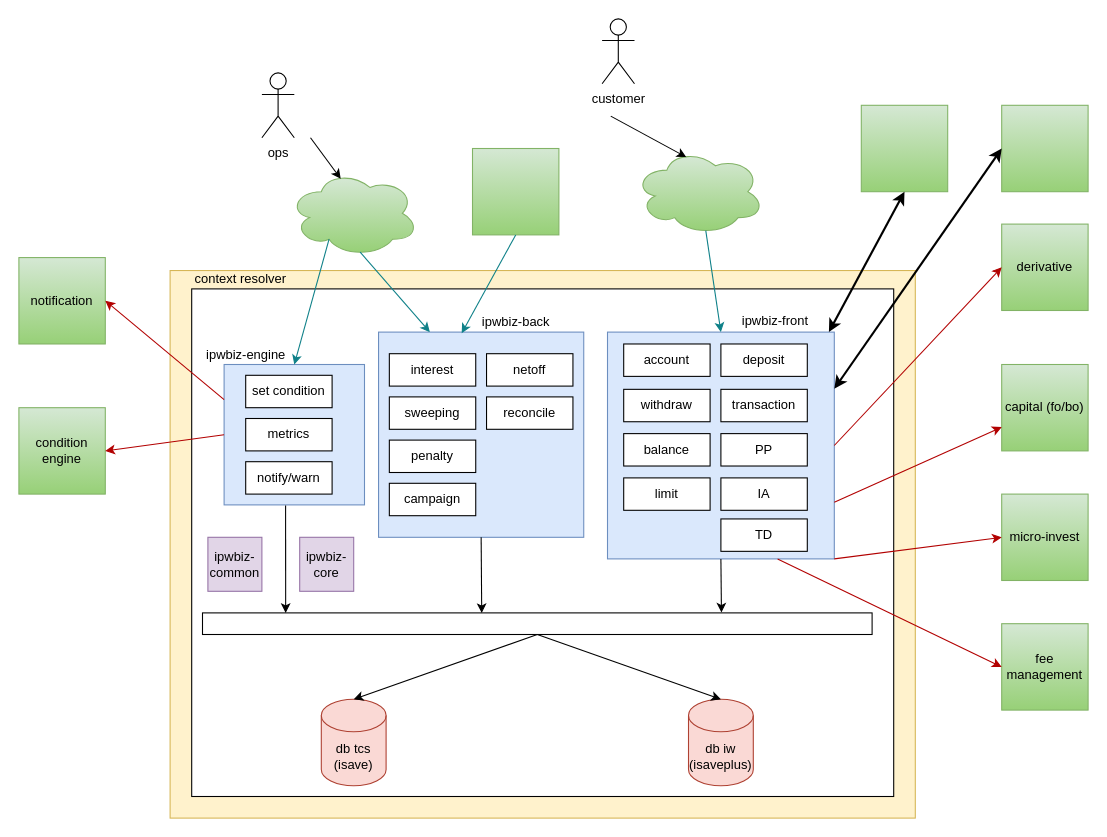
Some shapes in this 1107 by 837 pixel diagram are drawn without their labels. Here are the shapes that lost their labels. From the top down, the box of each, then its label:
(860, 104, 948, 192): cash service
(1001, 104, 1088, 192): profile
(471, 147, 559, 235): job management
(633, 147, 764, 235): tcinvest
(288, 169, 418, 256): backend
(201, 612, 872, 634): context datasource resolver
